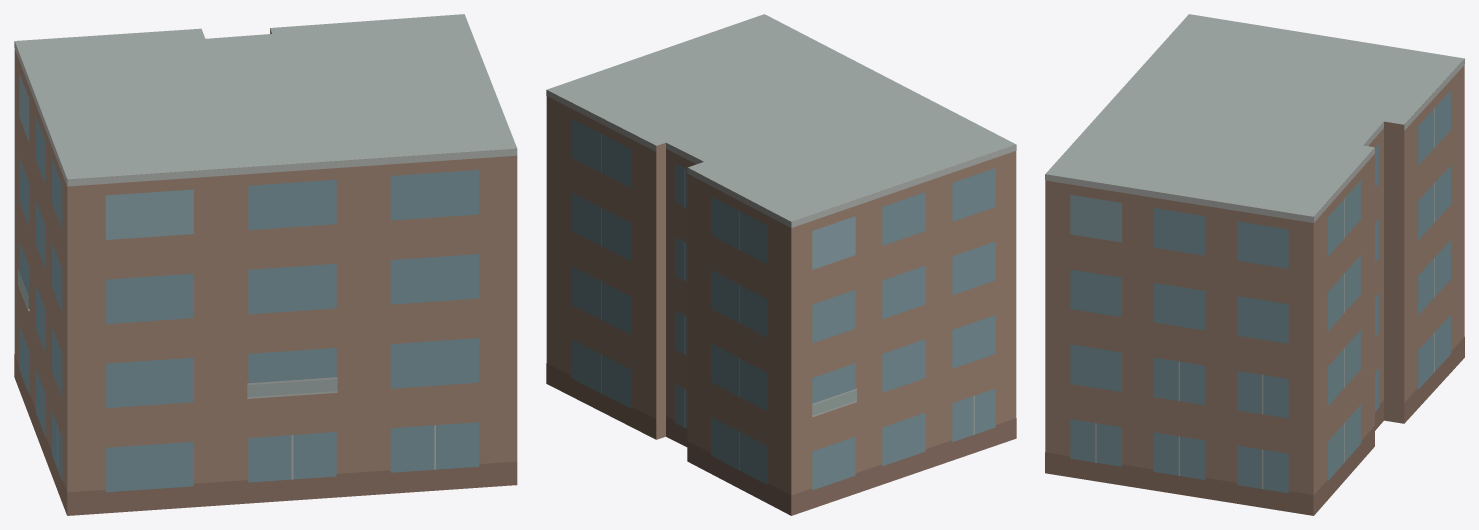
File: survey-upis-32942498.glb
The picture shows the model from 3 angles, left to right: view 1: azimuth 30°, elevation 25°; view 2: azimuth 150°, elevation 25°; view 3: azimuth 270°, elevation 25°; orthographic projection. The views are drawn at different scales.
Visible parts, largest first — view 1: survey-upis-32942498.tmp; view 2: survey-upis-32942498.tmp; view 3: survey-upis-32942498.tmp.
Boxes of the visible parts, <box> form: survey-upis-32942498.tmp: <box>14,14,517,515</box>; survey-upis-32942498.tmp: <box>546,14,1016,515</box>; survey-upis-32942498.tmp: <box>1045,14,1464,515</box>.
Size of the model in its own units: 16.88 by 11.6 by 14.76.
